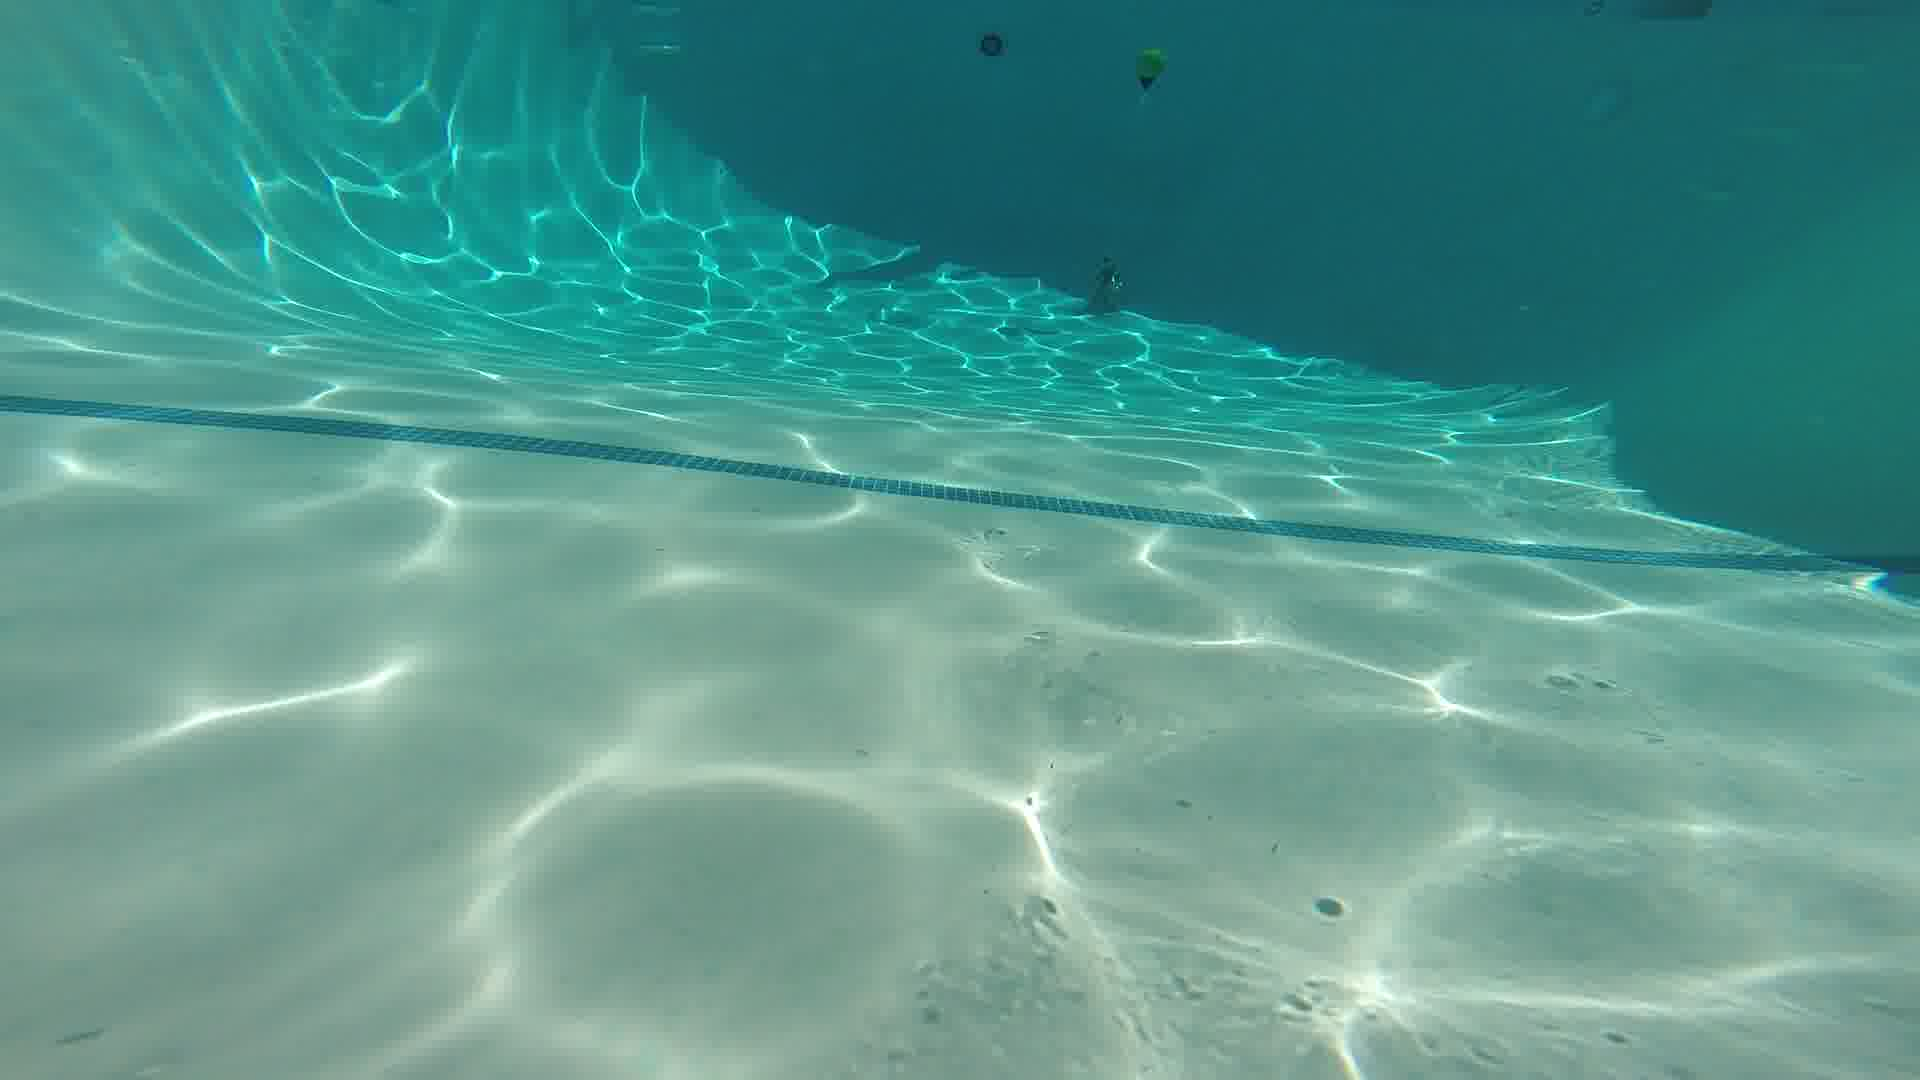yellow_buoy: (1125, 40, 1170, 108)
